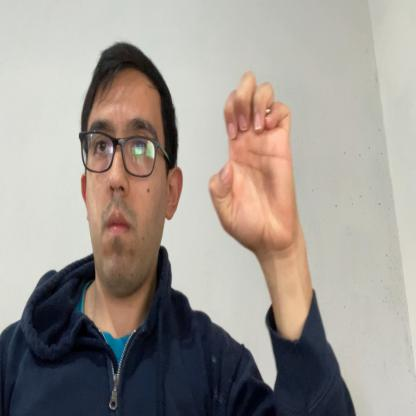E: (207, 70, 294, 256)
